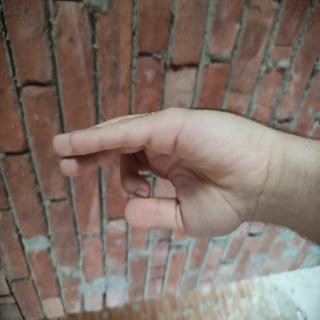Space: (60, 60, 172, 320)
